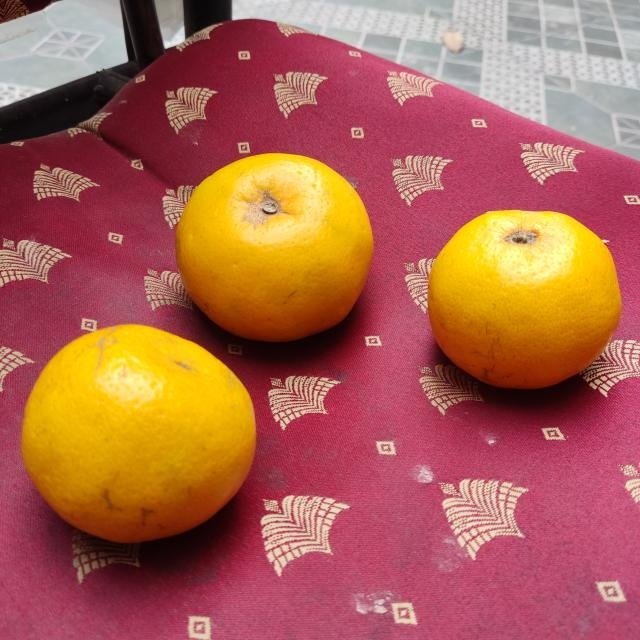agrume: (23, 325, 257, 546), (177, 151, 378, 341), (426, 206, 619, 391)
